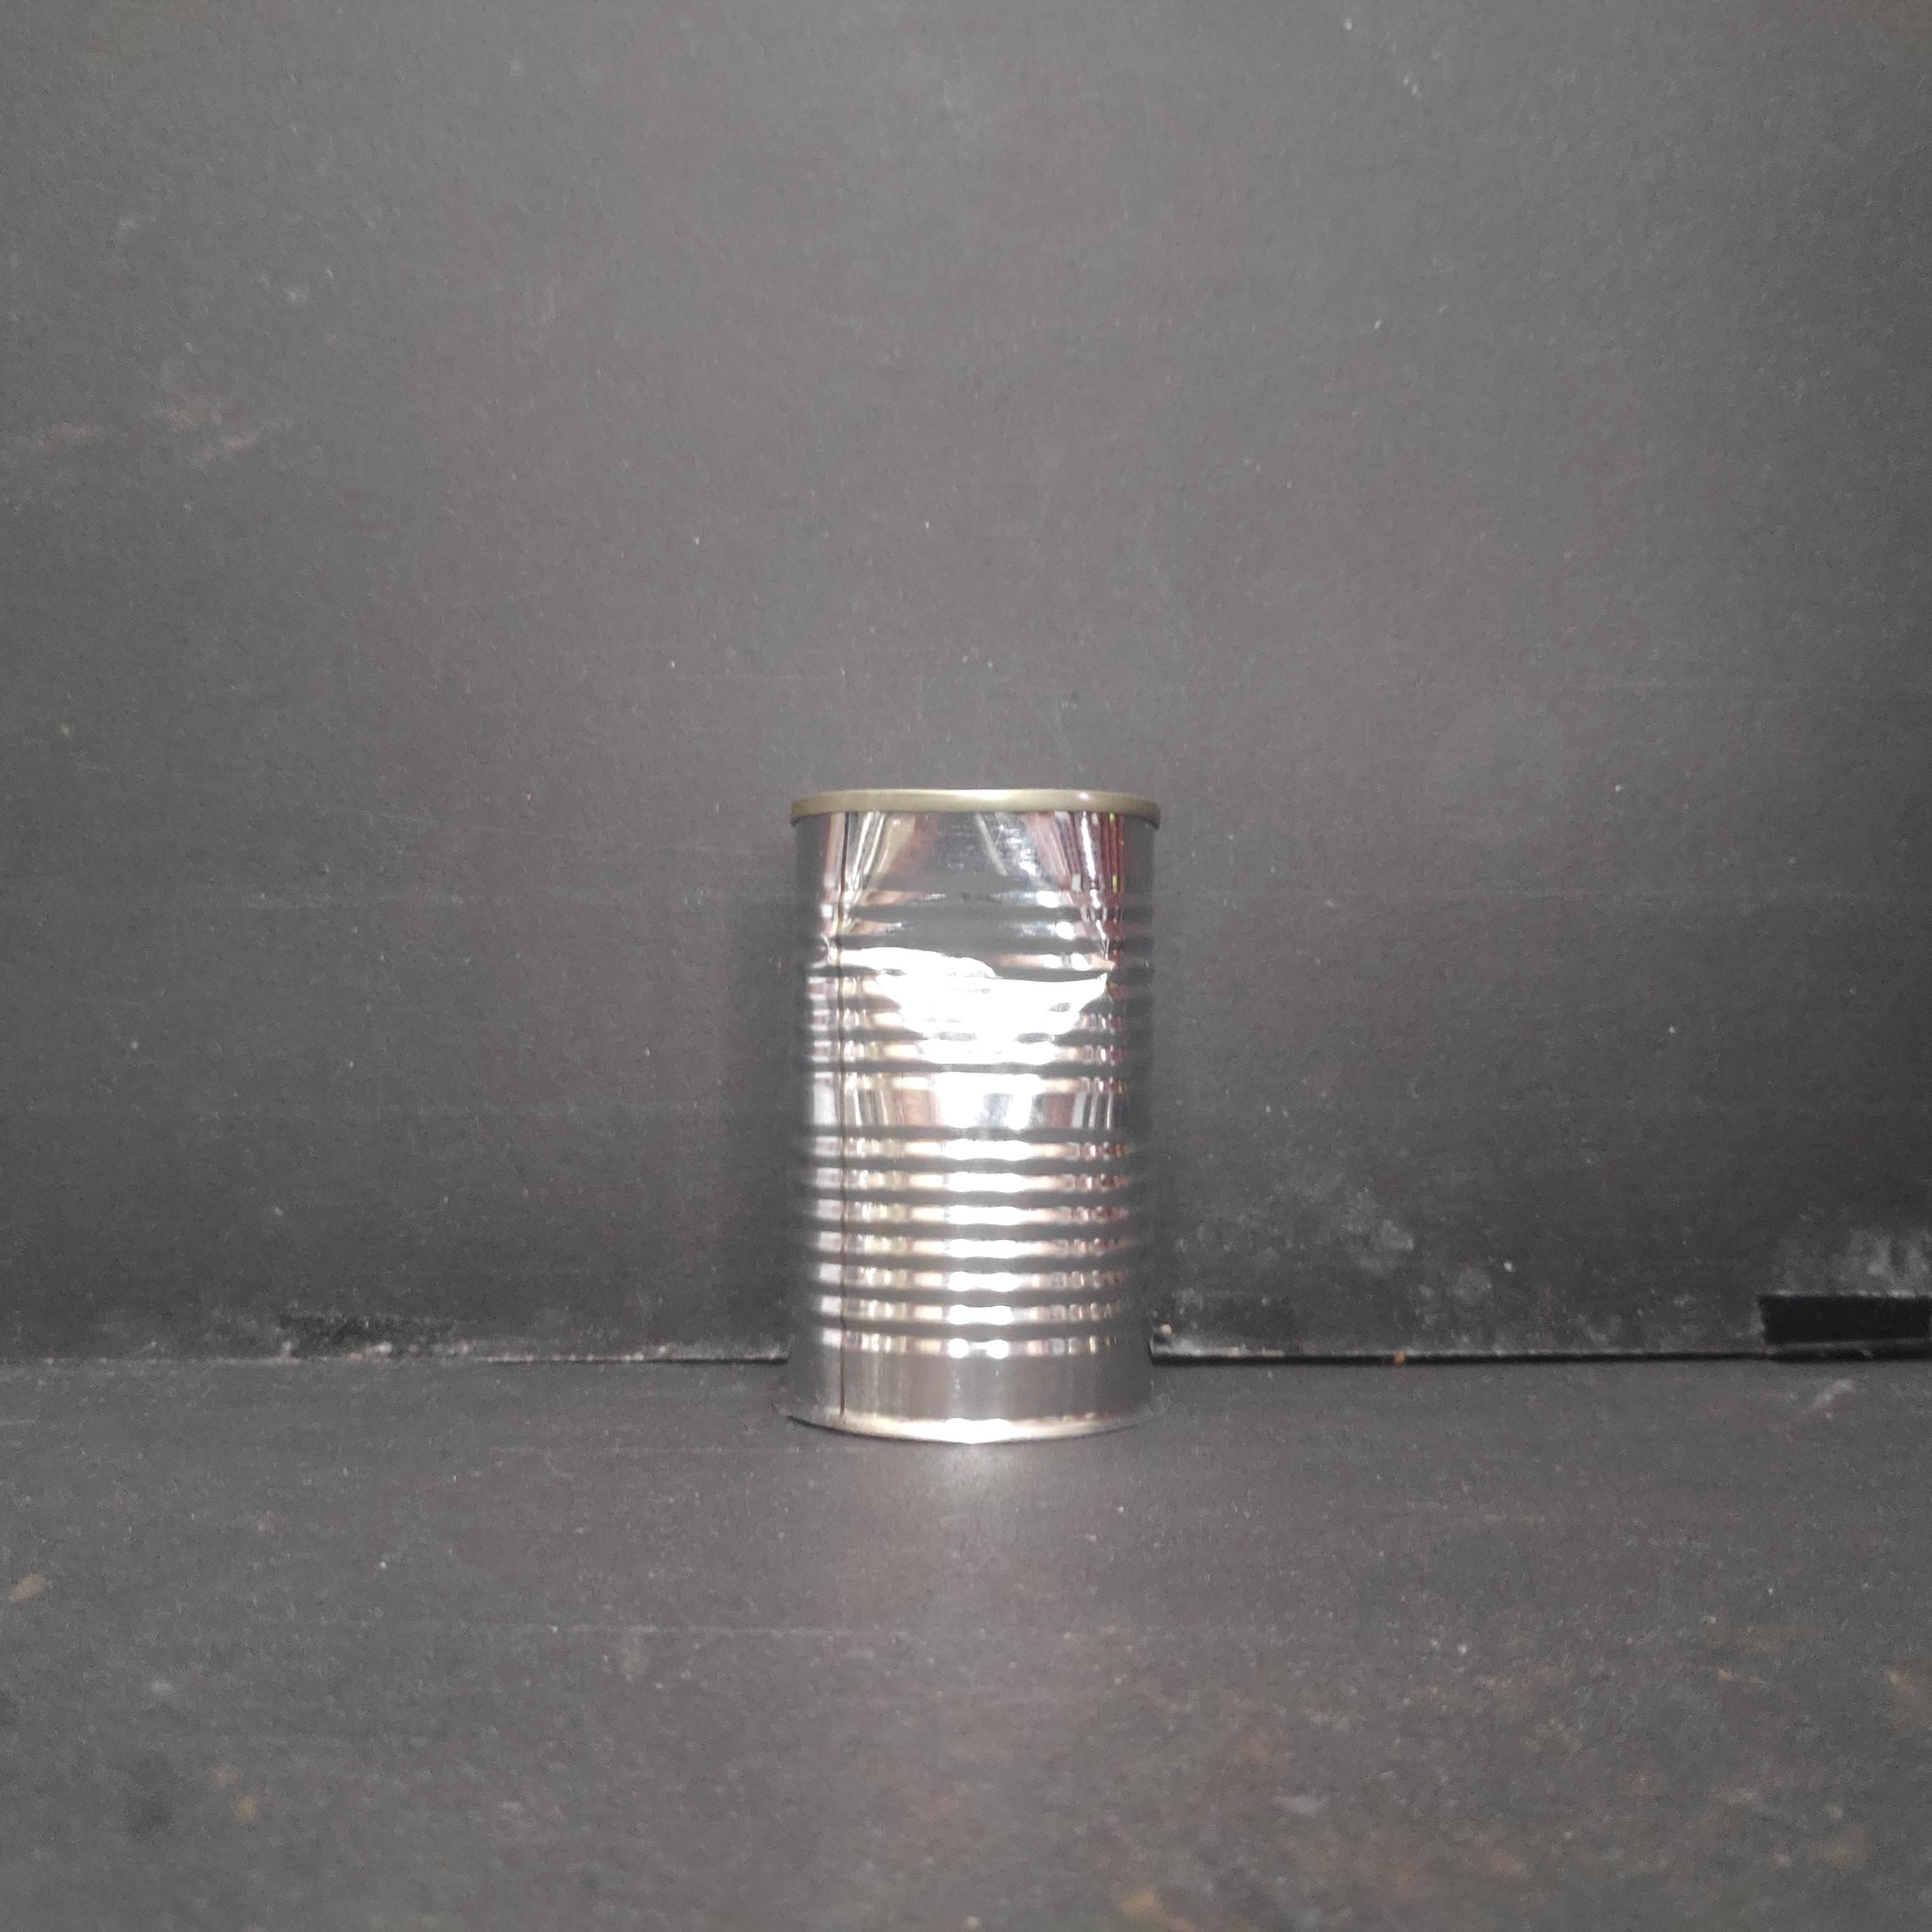Minor Defect: (775, 777, 1182, 1454)
